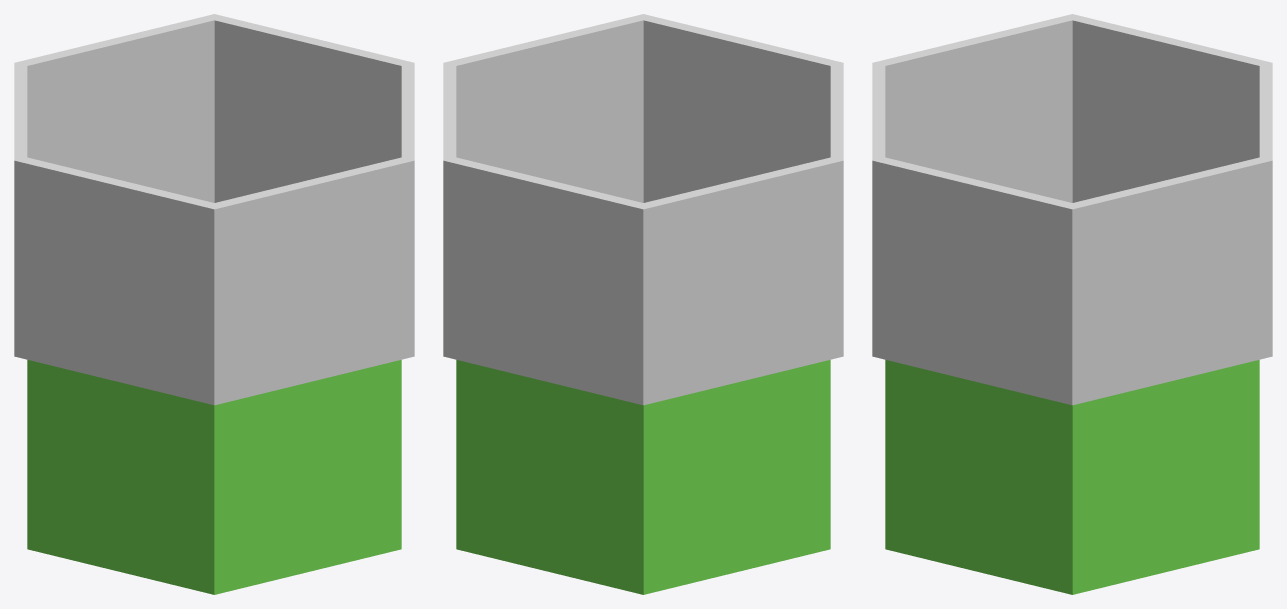
Rendered from AltigenHaritaZeminli.fbx.
The picture shows the model from 3 angles, left to right: view 1: azimuth 30°, elevation 25°; view 2: azimuth 150°, elevation 25°; view 3: azimuth 270°, elevation 25°; orthographic projection.
Visible parts, largest first — view 1: HaritaDeneme, Duvar1, Duvar2, Duvar4, Duvar5, Duvar3, Duvar6; view 2: HaritaDeneme, Duvar3, Duvar4, Duvar1, Duvar6, Duvar2, Duvar5; view 3: HaritaDeneme, Duvar5, Duvar6, Duvar2, Duvar3, Duvar1, Duvar4.
Boxes of the visible parts, x1,y1,x2,y2 form: HaritaDeneme: (27, 360, 401, 594); Duvar1: (214, 157, 414, 405); Duvar2: (14, 157, 214, 404); Duvar4: (14, 14, 214, 202); Duvar5: (214, 14, 414, 202); Duvar3: (14, 63, 27, 160); Duvar6: (401, 63, 414, 160); HaritaDeneme: (456, 360, 830, 594); Duvar3: (643, 157, 843, 405); Duvar4: (443, 157, 643, 404); Duvar1: (643, 14, 843, 202); Duvar6: (443, 14, 643, 202); Duvar2: (830, 63, 843, 160); Duvar5: (443, 63, 456, 160); HaritaDeneme: (885, 360, 1259, 594); Duvar5: (1072, 157, 1272, 405); Duvar6: (872, 157, 1072, 404); Duvar2: (872, 14, 1072, 202); Duvar3: (1072, 14, 1272, 202); Duvar1: (872, 63, 885, 160); Duvar4: (1259, 63, 1272, 160).
Size of the model in its own units: 214 by 200 by 185.
